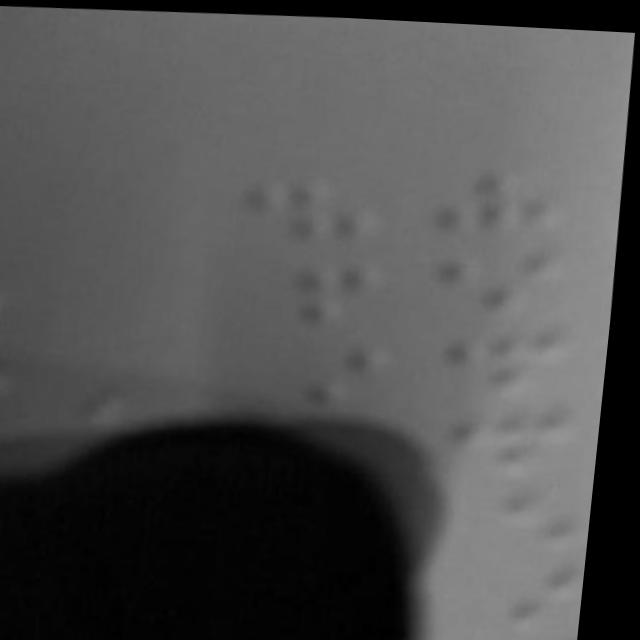braiile: (427, 231, 582, 315), (246, 331, 398, 414), (237, 252, 391, 329), (239, 167, 395, 243), (452, 395, 595, 477), (440, 316, 589, 393), (431, 157, 575, 232), (451, 551, 597, 624), (461, 476, 597, 548)
